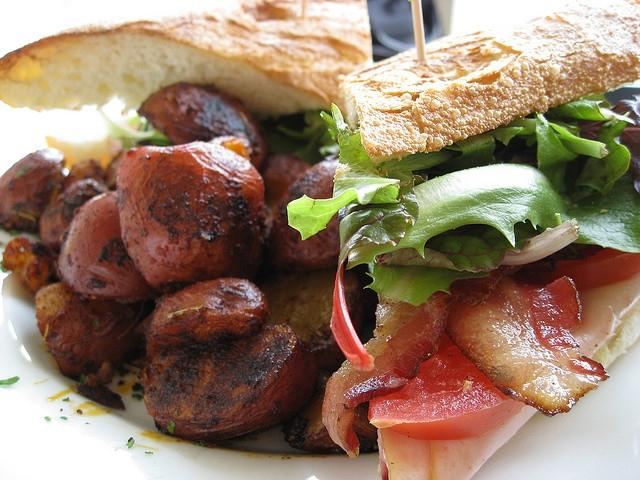lettuce: (346, 164, 638, 270), (286, 102, 462, 241), (330, 175, 426, 372), (376, 219, 542, 273), (362, 262, 490, 306), (506, 118, 610, 159), (574, 121, 630, 196), (534, 111, 579, 195), (97, 108, 171, 148), (278, 109, 324, 138), (610, 94, 640, 126)
tomato: (368, 346, 526, 442), (536, 248, 640, 293)
